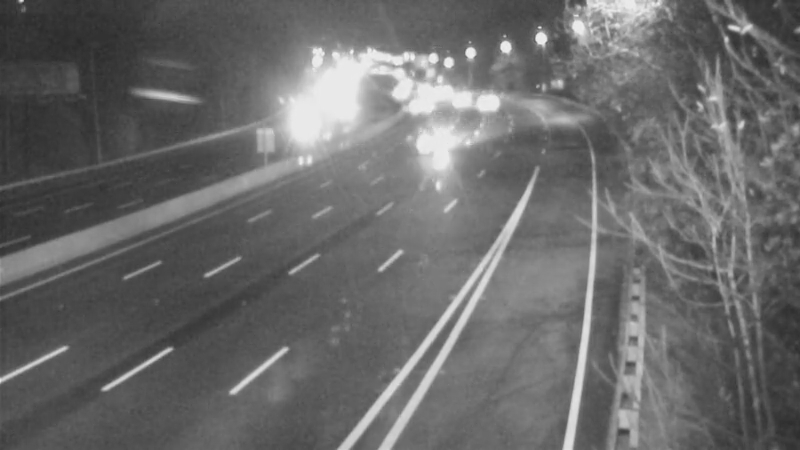vehicle: (457, 74, 507, 124), (388, 80, 438, 130), (402, 118, 452, 168)
